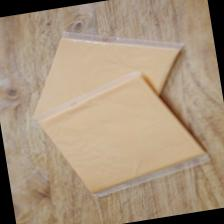cheese: (26, 62, 214, 204), (18, 13, 195, 132)
